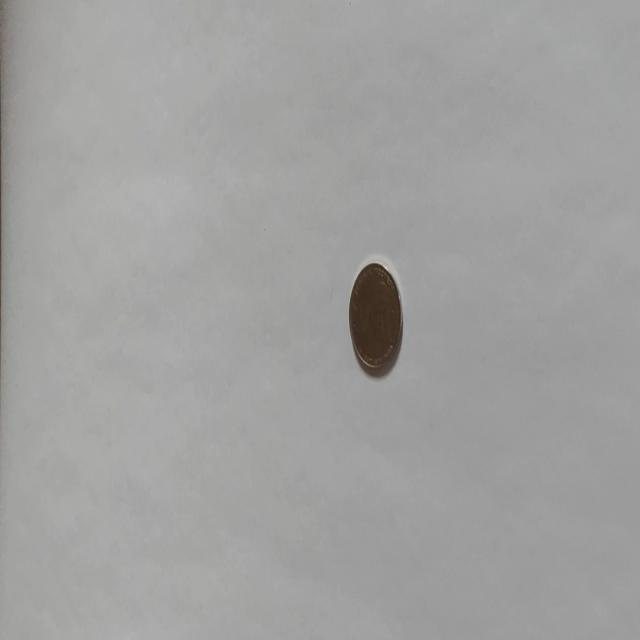seribu rupiah koin: (346, 257, 404, 375)
